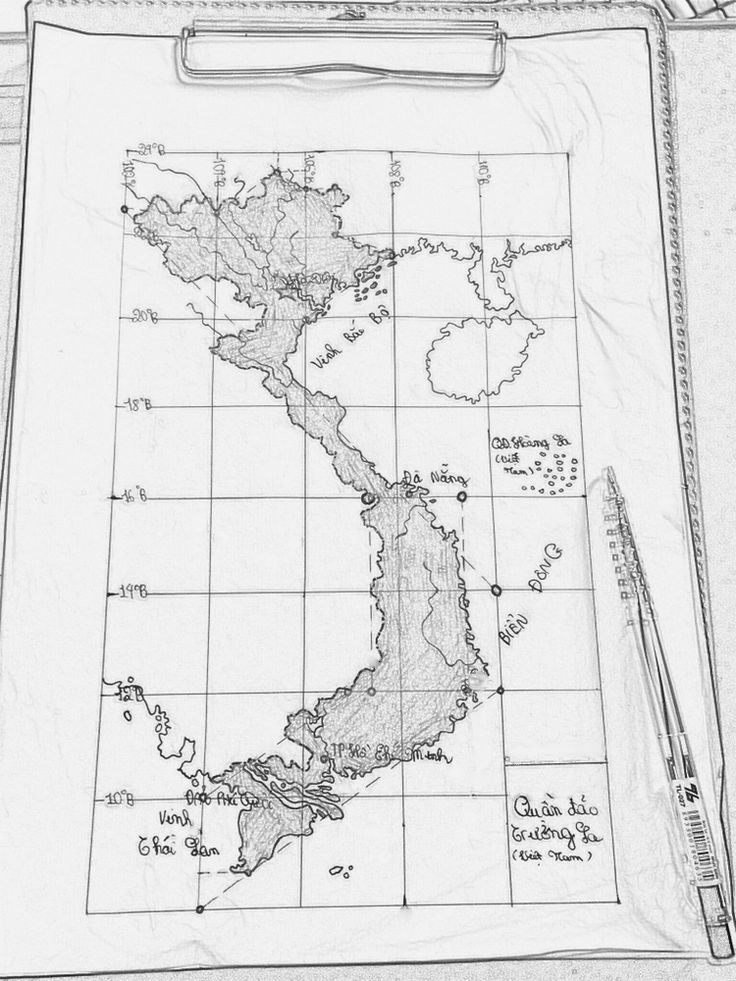Island: (507, 772, 617, 883), (489, 423, 583, 508)
